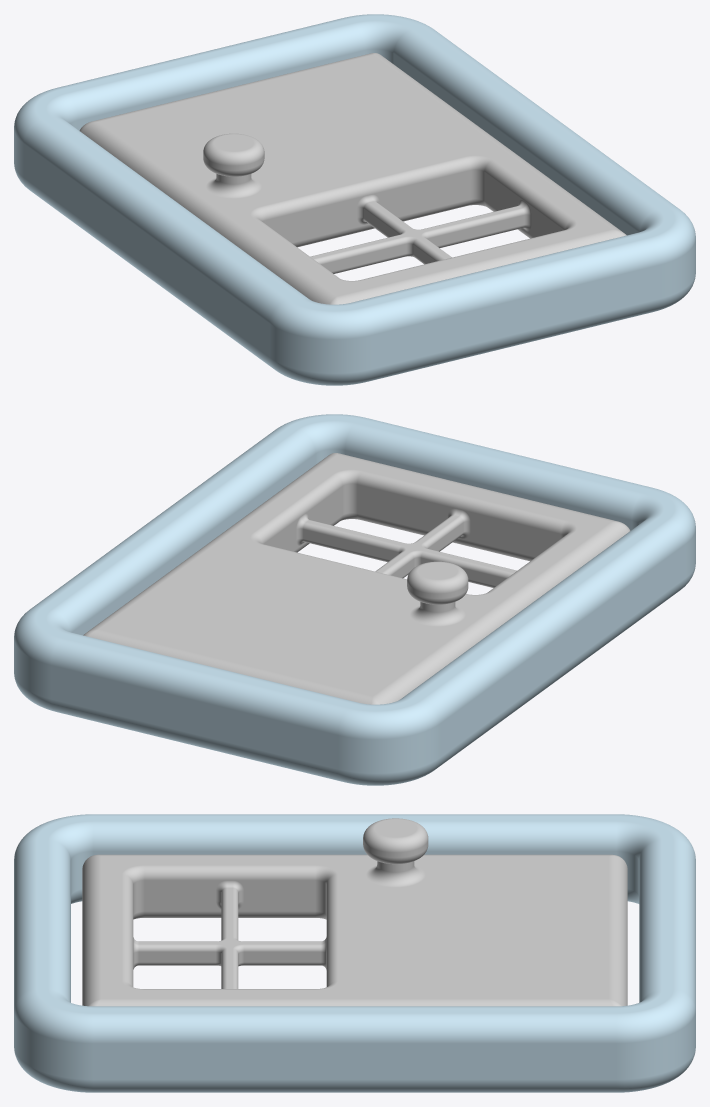
File: door.gltf
The picture shows the model from 3 angles, top to bottom: view 1: azimuth 30°, elevation 25°; view 2: azimuth 150°, elevation 25°; view 3: azimuth 270°, elevation 25°; orthographic projection. The views are drawn at different scales.
Visible parts, largest first — view 1: Part 1, Part 2; view 2: Part 1, Part 2; view 3: Part 1, Part 2.
Part boxes in pixels (<box>): Part 1: <box>14,14,695,385</box>; Part 2: <box>79,53,626,304</box>; Part 1: <box>14,414,695,785</box>; Part 2: <box>83,453,630,704</box>; Part 1: <box>14,814,695,1092</box>; Part 2: <box>82,818,627,1006</box>.
Size of the model in its own units: 0.009 by 0.00215 by 0.012.
